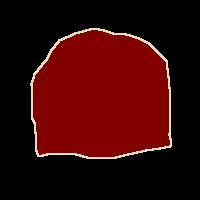hat: (31, 28, 171, 158)
